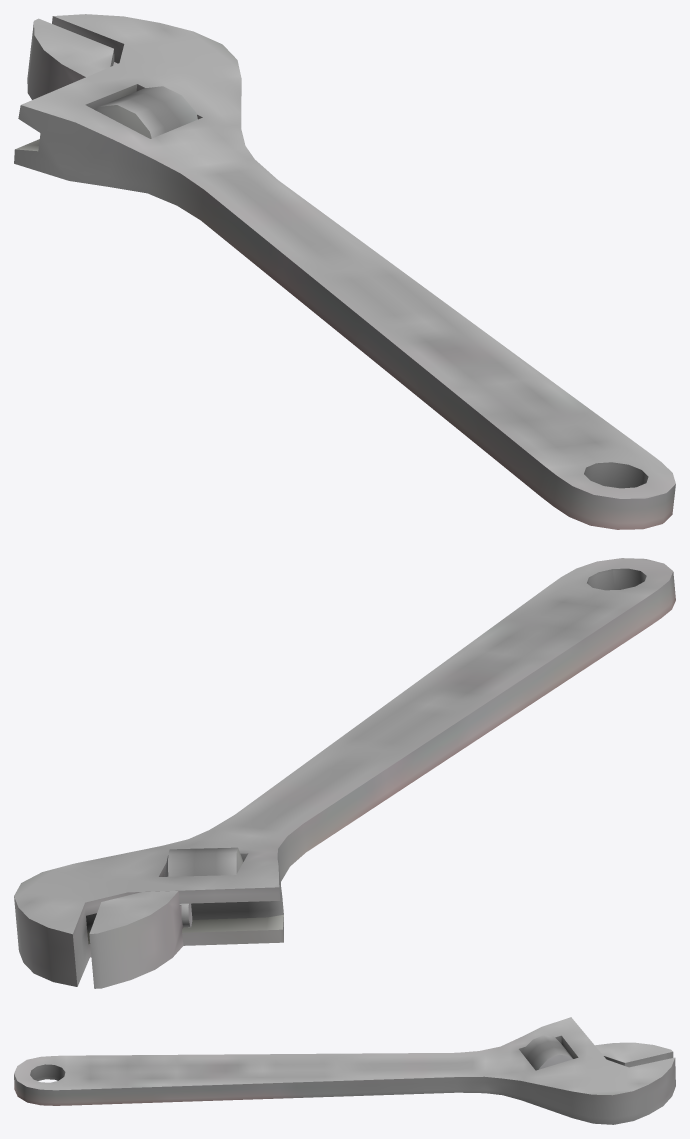
File: SM_Monkwrench_1_closed_1a8b49.glb
3 views of the same model, one above another, from view 1: azimuth 30°, elevation 25°; view 2: azimuth 150°, elevation 25°; view 3: azimuth 270°, elevation 25° (orthographic). The views are drawn at different scales.
Size of the model in its own units: 0.0793 by 0.0261 by 0.3384.
Materials: 1 (1 with a texture image).
